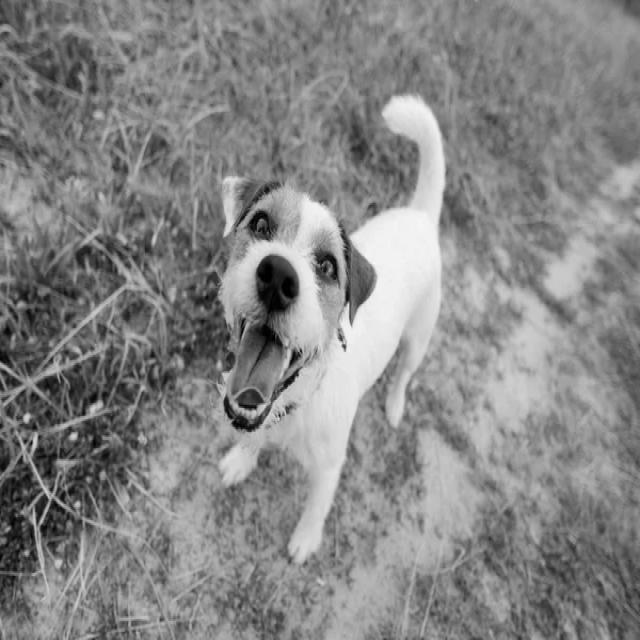Animal: (205, 88, 465, 535)
